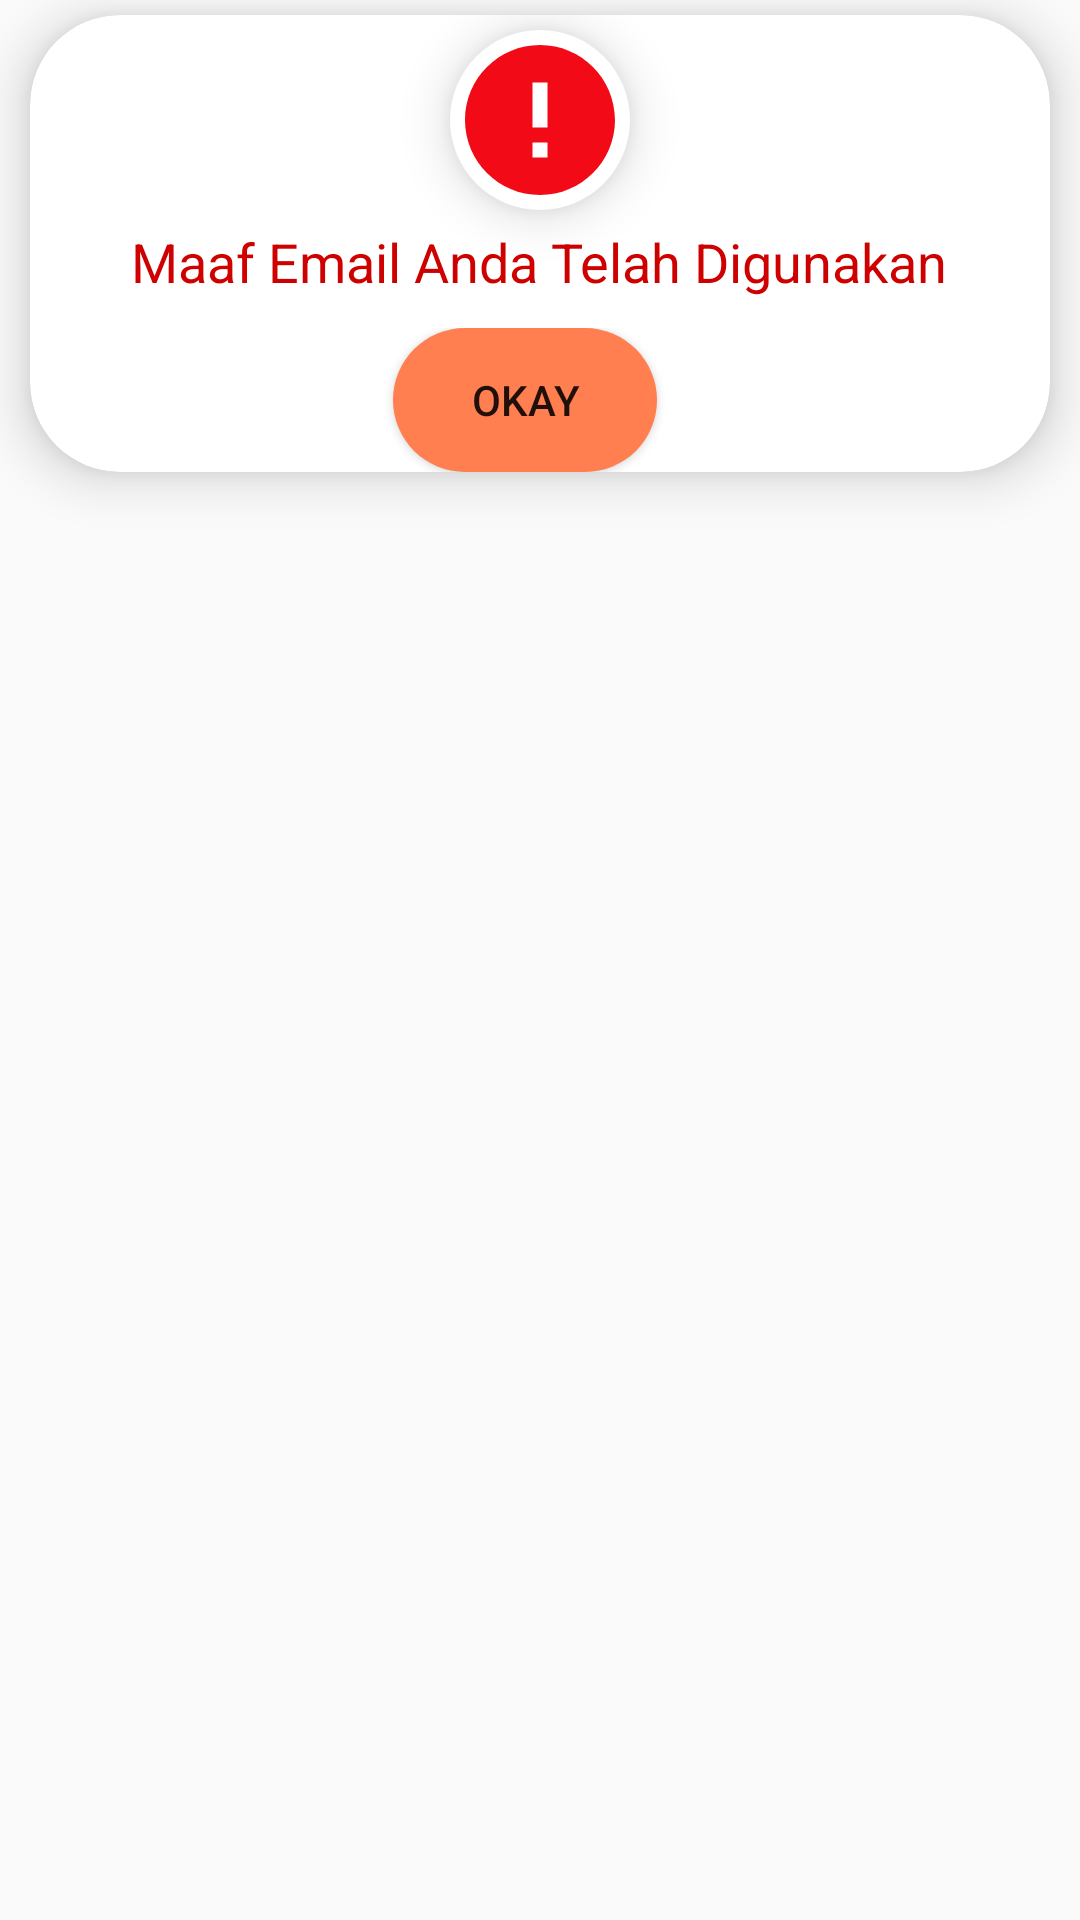

Screen size 1080px×1920px. Icon name, then its box in pixels as [x1,y1,x2,y2]:
error: [465,45,615,195]
